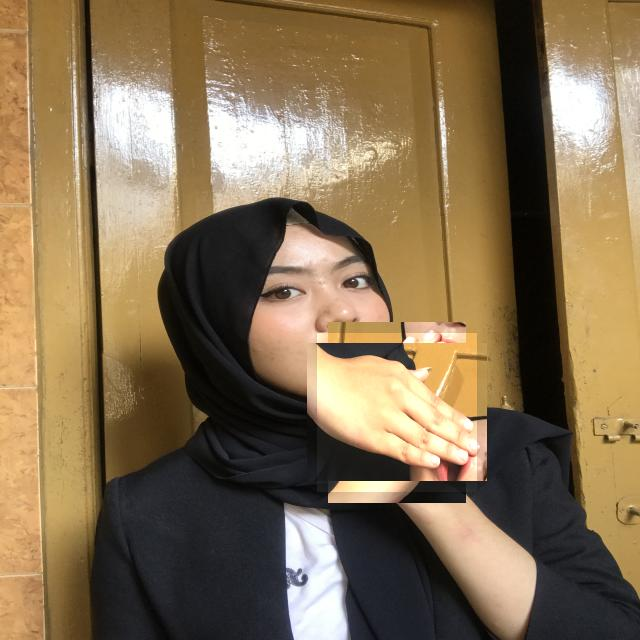ngantuk: (317, 333, 477, 492)
